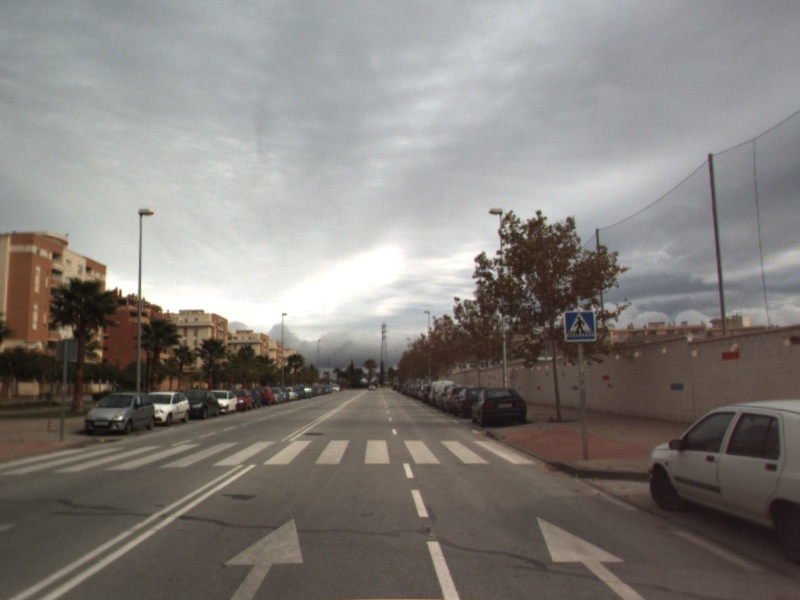STRAIGHT: (535, 515, 649, 600), (221, 515, 306, 600)
